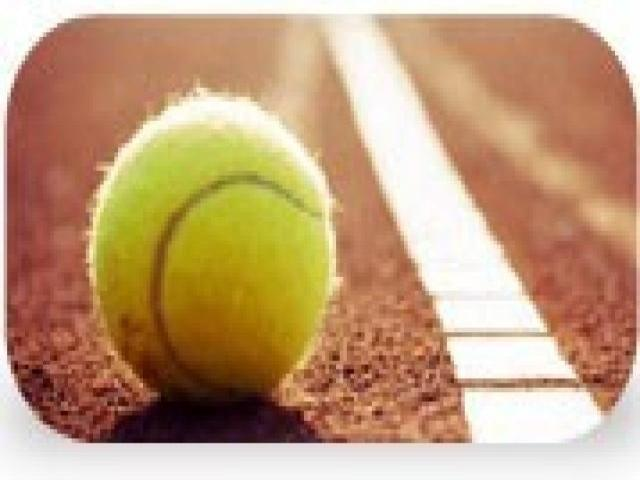tennis-ball: (91, 94, 335, 404)
